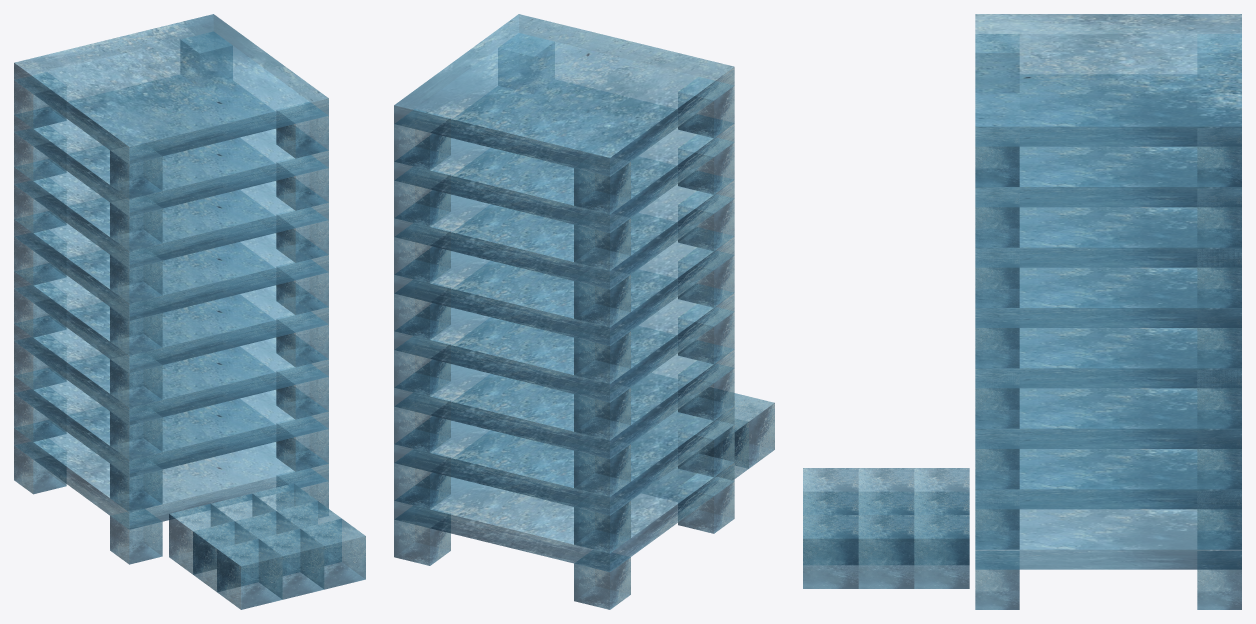
File: GlassTower.glb
3 views of the same model, side by side, from view 1: azimuth 30°, elevation 25°; view 2: azimuth 150°, elevation 25°; view 3: azimuth 270°, elevation 25° (orthographic). The views are drawn at different scales.
Visible parts, largest first — view 1: Cube.043, Cube.048, Cube.033, Cube.028, Cube.023, Cube.018, Cube.038, Cube.013, Cube.002, Cube, Cube.003, Cube.001 (+30 smaller); view 2: Cube.043, Cube.048, Cube.023, Cube.033, Cube.013, Cube.028, Cube.038, Cube.018, Cube.045, Cube.044, Cube.046, Cube.040 (+23 smaller); view 3: Cube.043, Cube.048, Cube.018, Cube.028, Cube.038, Cube.013, Cube.023, Cube.033, Cube.004, Cube, Cube.001, Cube.007 (+23 smaller).
Boxes of the visible parts, box(x1,y1,x2,y2) form: Cube.043: box(14, 14, 328, 164); Cube.048: box(14, 75, 328, 216); Cube.033: box(14, 190, 328, 320); Cube.028: box(14, 242, 328, 372); Cube.023: box(14, 295, 328, 425); Cube.018: box(14, 347, 328, 477); Cube.038: box(14, 138, 328, 268); Cube.013: box(14, 399, 328, 529); Cube.002: box(217, 539, 282, 609); Cube: box(259, 528, 324, 599); Cube.003: box(193, 521, 258, 591); Cube.001: box(300, 518, 365, 589); Cube.043: box(394, 14, 734, 176); Cube.048: box(394, 80, 734, 232); Cube.023: box(394, 318, 734, 459); Cube.033: box(394, 205, 734, 345); Cube.013: box(394, 431, 734, 571); Cube.028: box(394, 261, 734, 402); Cube.038: box(394, 148, 734, 289); Cube.018: box(394, 374, 734, 515); Cube.045: box(394, 109, 450, 170); Cube.044: box(574, 153, 630, 214); Cube.046: box(678, 77, 734, 138); Cube.040: box(678, 134, 734, 194); Cube.043: box(975, 14, 1241, 146); Cube.048: box(975, 75, 1241, 207); Cube.018: box(975, 389, 1241, 509); Cube.028: box(975, 268, 1241, 388); Cube.038: box(975, 147, 1241, 267); Cube.013: box(975, 449, 1241, 569); Cube.023: box(975, 328, 1241, 448); Cube.033: box(975, 208, 1241, 327); Cube.004: box(858, 515, 914, 588); Cube: box(803, 491, 858, 564); Cube.001: box(803, 515, 858, 588); Cube.007: box(914, 515, 969, 588).
Size of the model in its own units: 4.8 by 9.6 by 7.9.
Materials: 9 (9 with a texture image).
